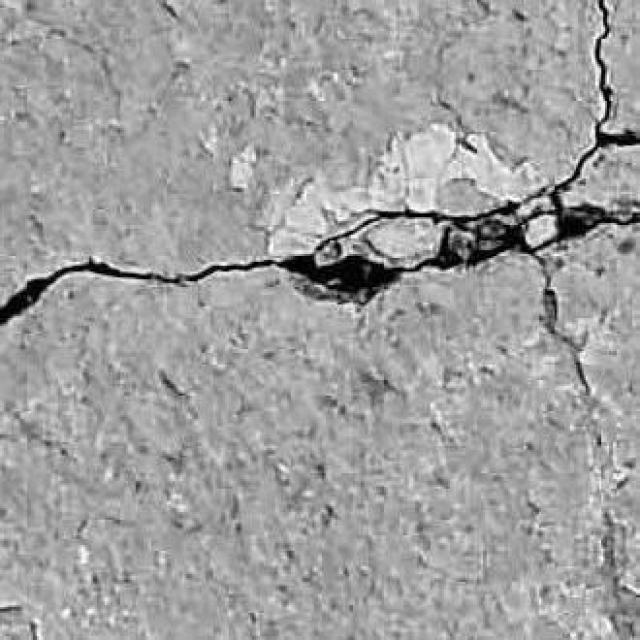crack: (0, 0, 639, 325), (0, 202, 639, 325), (0, 258, 279, 325), (549, 0, 614, 197), (532, 253, 593, 399), (600, 509, 639, 639)
